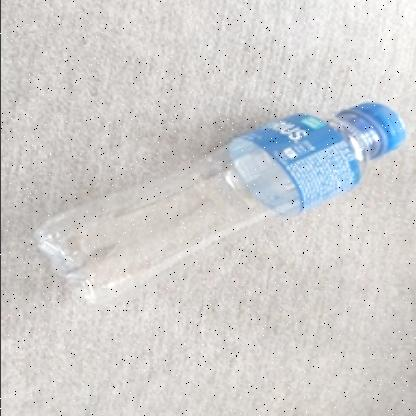Plastic Bottle: (33, 100, 405, 304)
